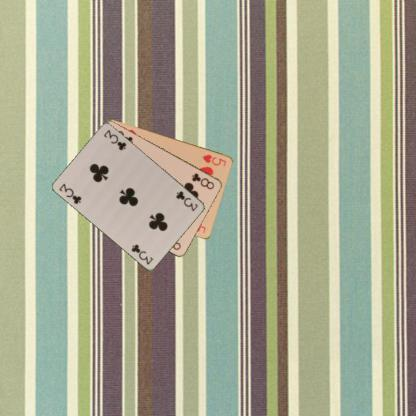3c: (174, 188, 200, 213), (56, 181, 82, 205)
5h: (200, 152, 228, 168)
8c: (189, 170, 215, 191)
